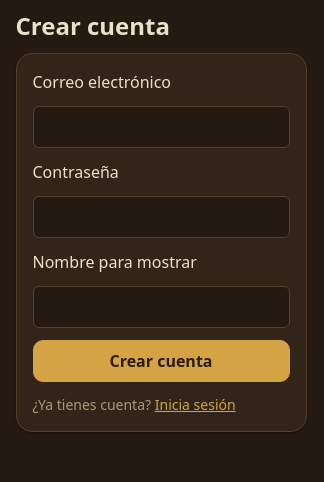
Test case: RegisterPage › says the email is taken when the API answers 409
Type "ana@example.com" into the field labelled "Correo electrónico". click: (161, 127)
box: [32,106,290,148]
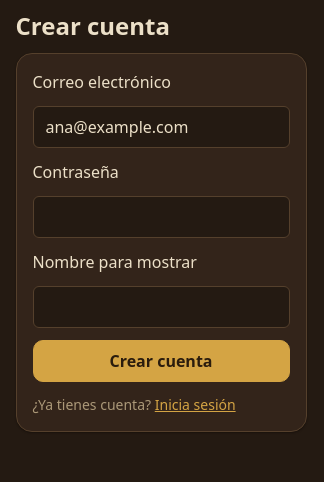
Type "secret12" into the password field labelled "Contraseña". click: (161, 217)
box: [32,196,290,238]
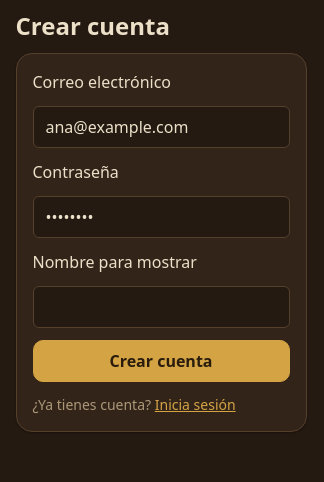
Type "Ana" into the field labelled "Nombre para mostrar". click: (161, 307)
box: [32,286,290,328]
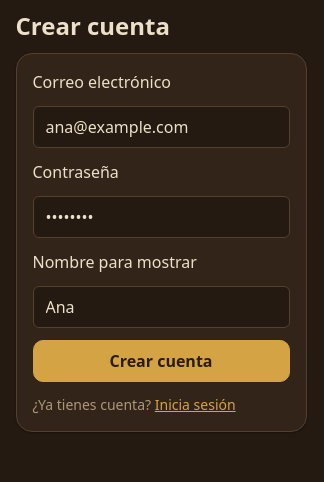
Click the button "Crear cuenta". click: click(161, 361)
box: [32,340,290,382]
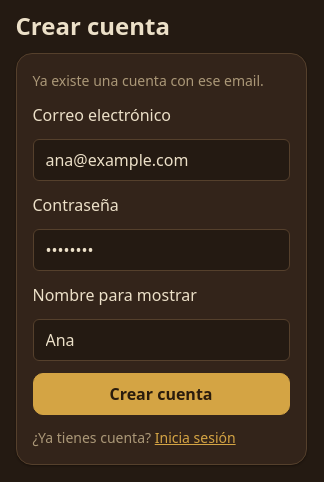
Check: the message reads "Ya existe una cuenta con ese email.", box [32,71,264,90]
